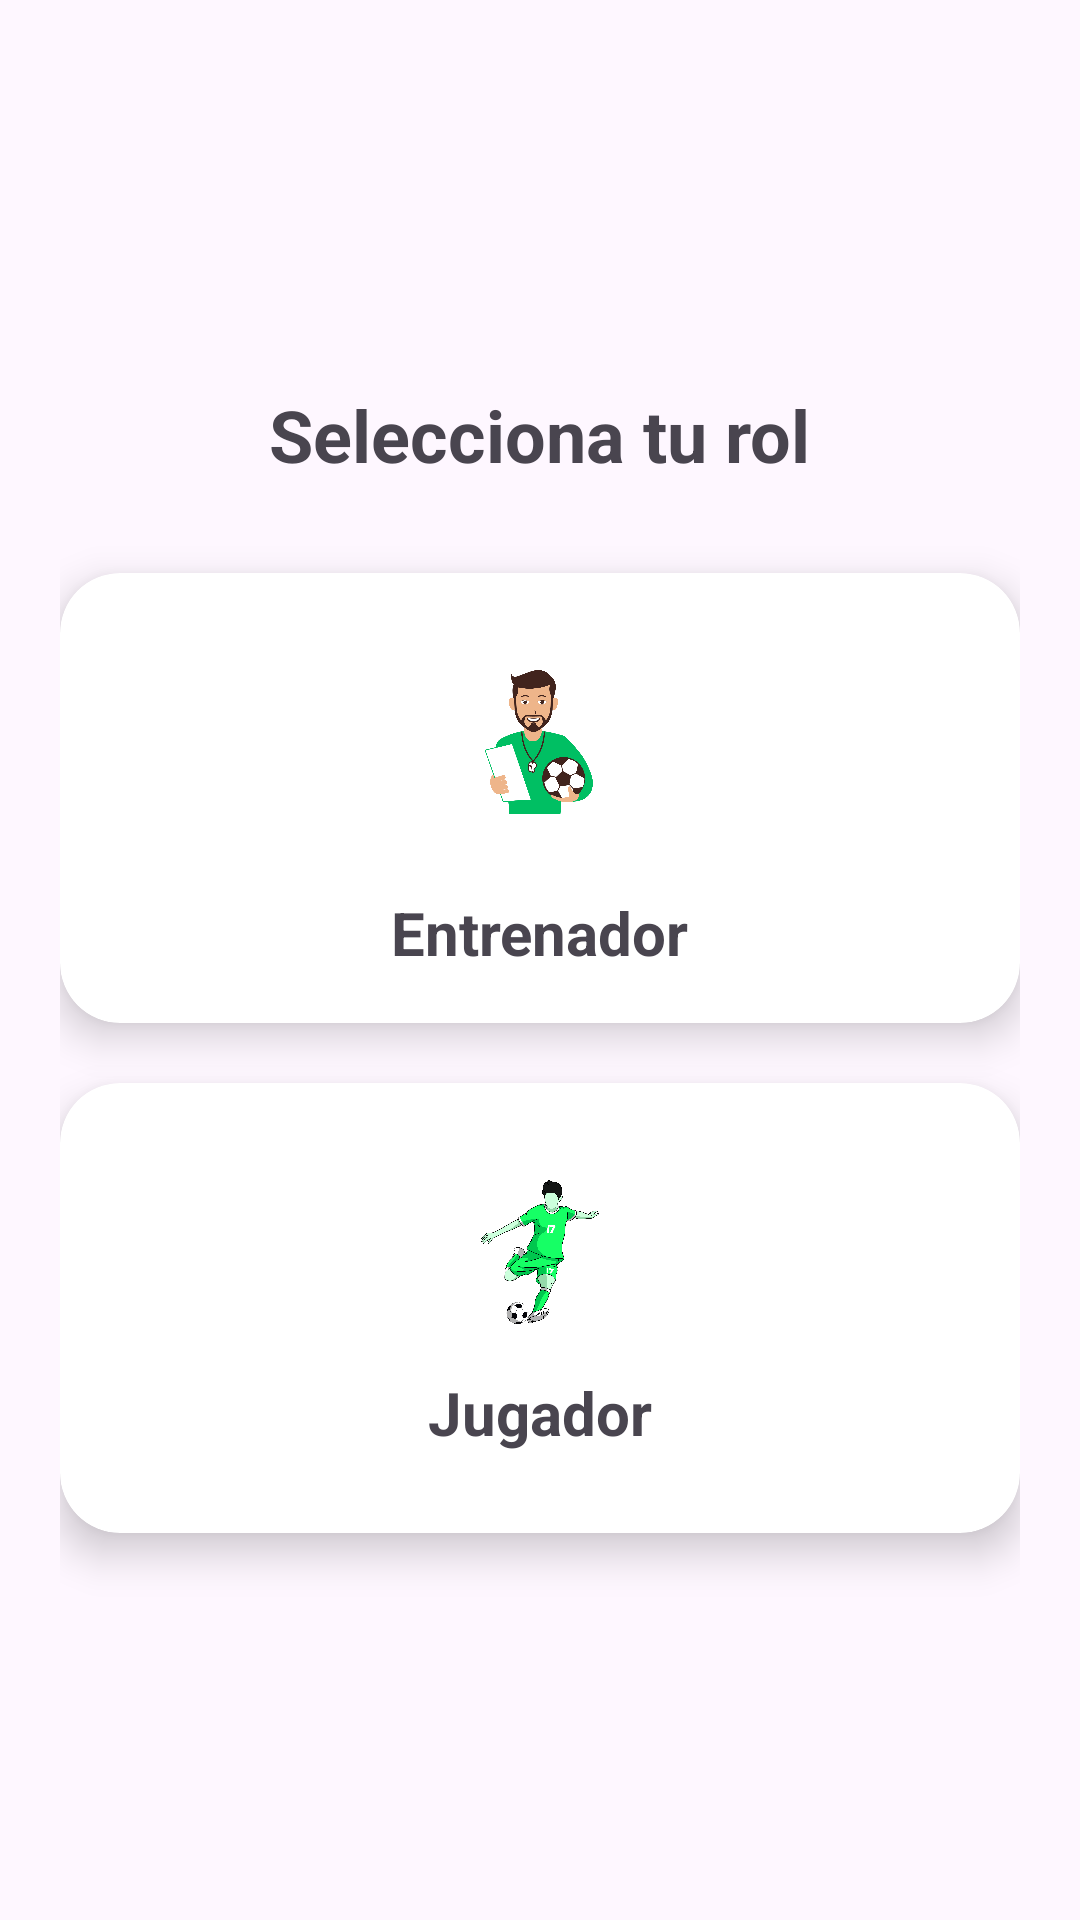

Icons on this 1080x1920 Android screen, each with its box as [x1,y1,x2,y2]:
coach: [485,670,593,814]
player: [481,1180,599,1324]
